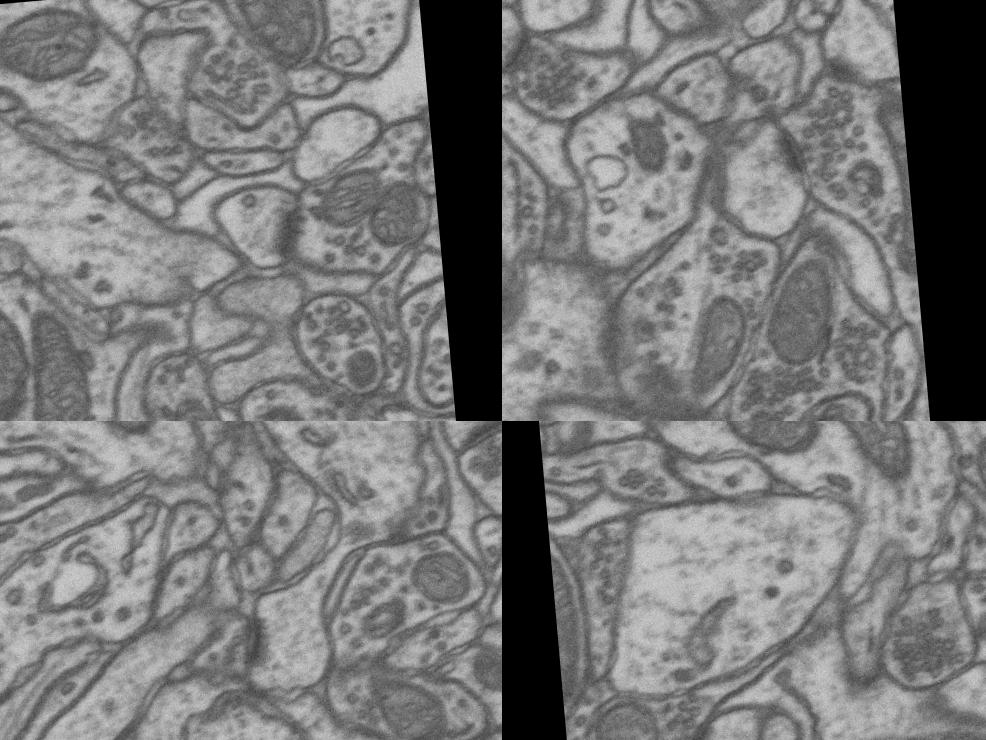mitochondria: (641, 284, 761, 421), (1, 304, 105, 421), (757, 238, 857, 359), (516, 311, 625, 421), (802, 421, 921, 498), (0, 0, 106, 85), (356, 655, 460, 740), (549, 540, 596, 720), (228, 0, 323, 69), (400, 540, 482, 618), (715, 421, 830, 469), (0, 287, 38, 421), (584, 686, 676, 740), (313, 164, 385, 231), (366, 176, 427, 252), (884, 158, 918, 282), (615, 132, 677, 199), (58, 421, 161, 445), (463, 639, 502, 699), (165, 390, 233, 421), (970, 423, 986, 524)
